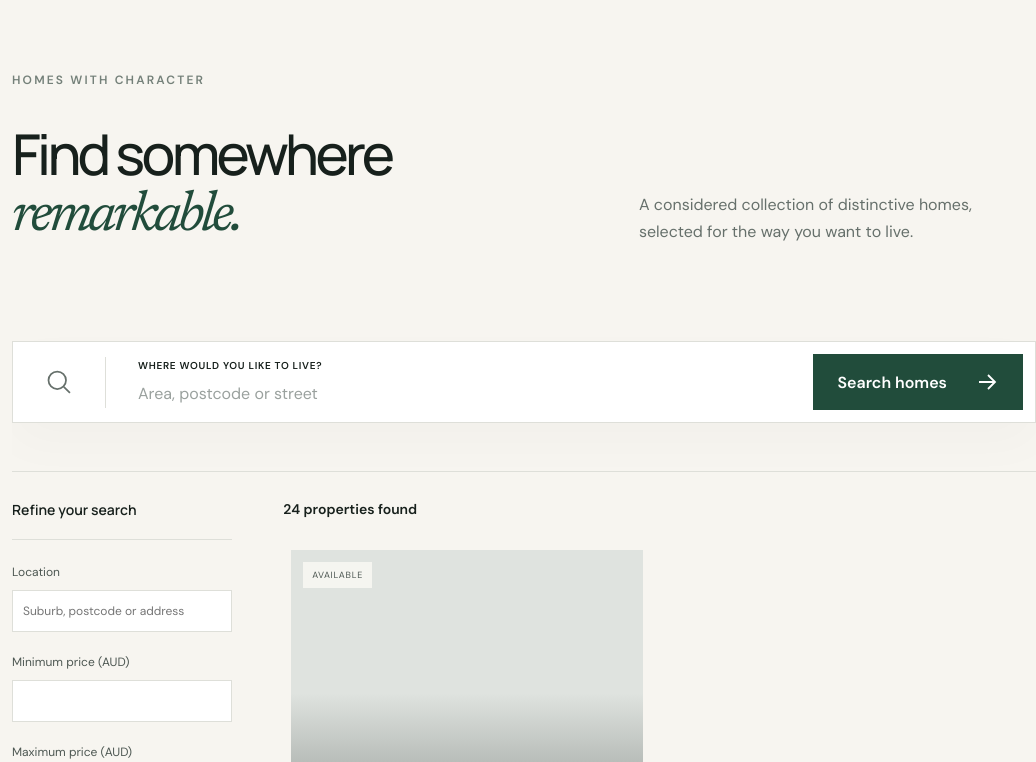
Scenario: searches from the hero while retaining refinements and resetting pagination
Later steps or results of the test are not shown.
In the search field: (460, 394) [138,382,782,406], type "  Richmond  "
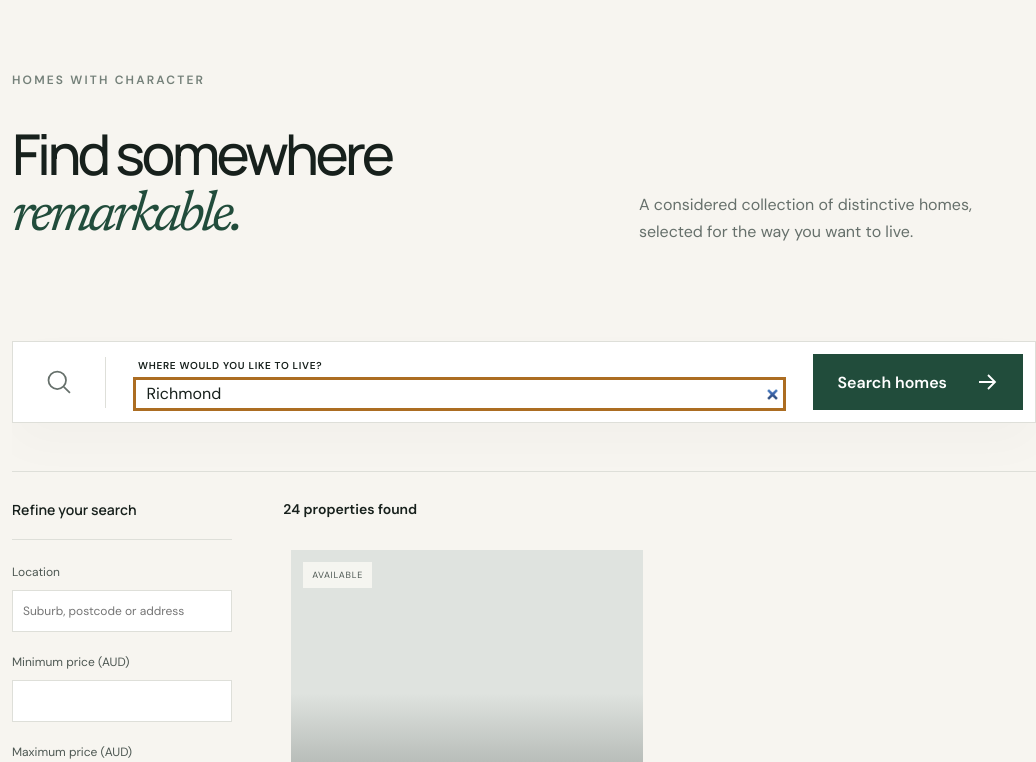
Click the button "Search homes": (918, 382) [814,354,1023,410]
(page scrolled)
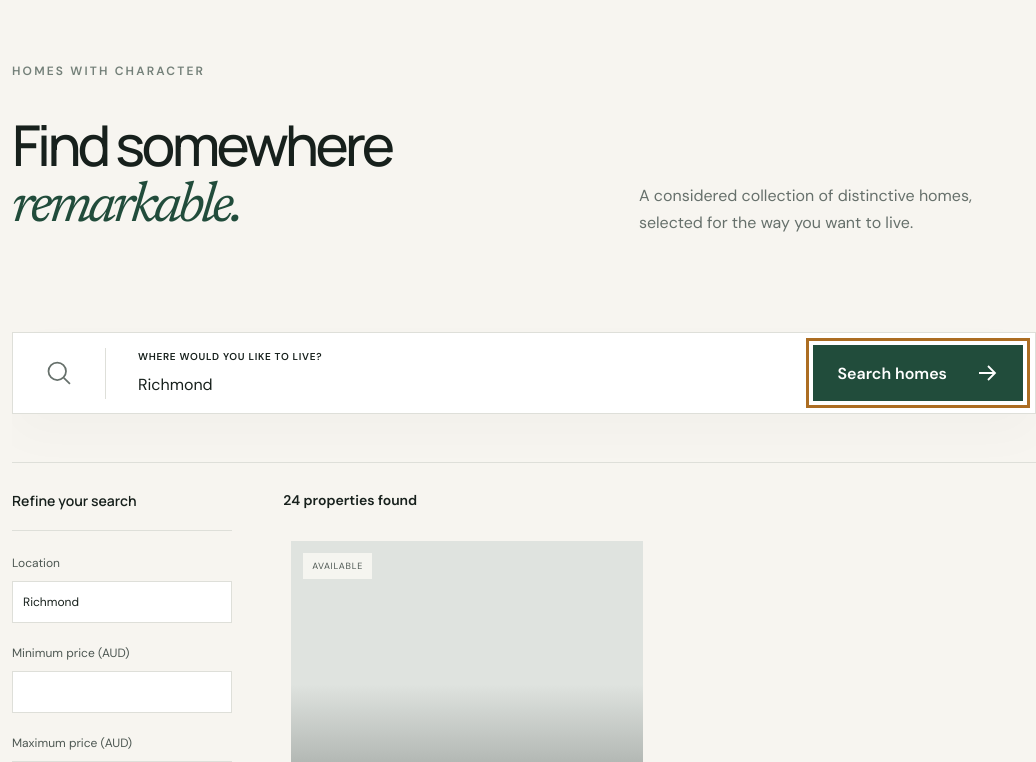
Check: the field labelled "Location" holds "Richmond", box [12,582,232,624]
